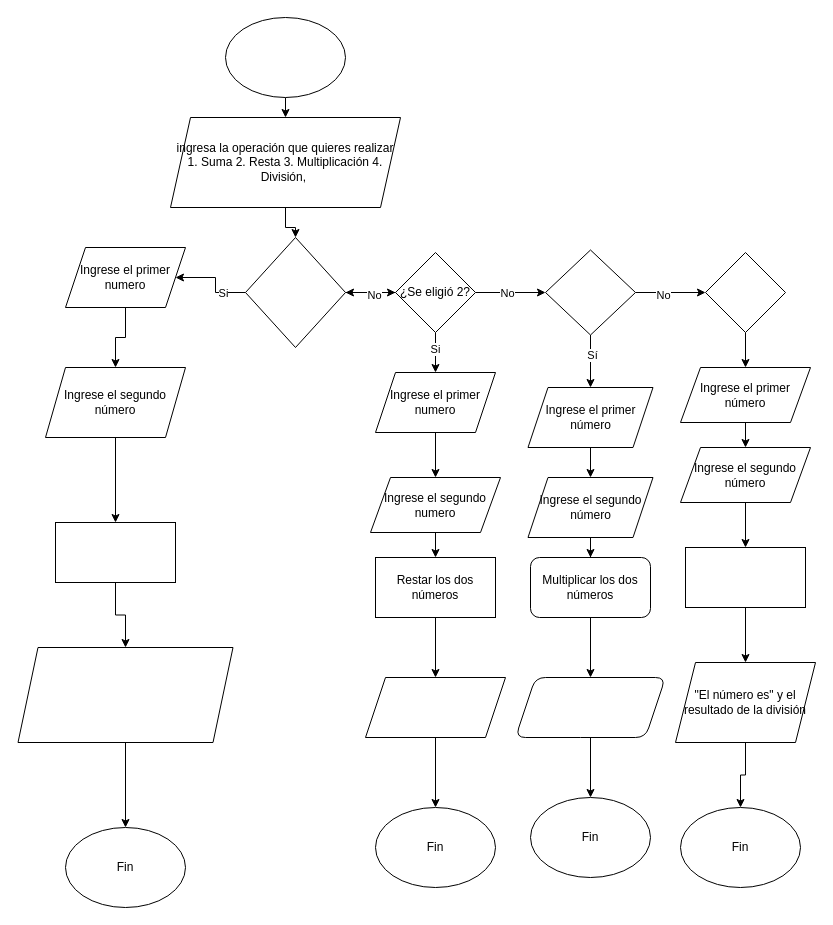
This 833x925 diagram has some shape labels left out. Each missing label, with the centre of its shape:
"El número es" y el resultado de la multiplicación: pixel 590 707
"El número es" y el resultado de la resta: pixel 435 707
"El número es" y el resultado de la suma: pixel 125 694
Dividir el primer numero entre el segundo: pixel 745 577
Inicio: pixel 285 57
Sumar los dos números: pixel 115 552
¿Se eligió 1?: pixel 295 292
¿Se eligió 3?: pixel 590 292
¿Se eligió 4?: pixel 745 292
